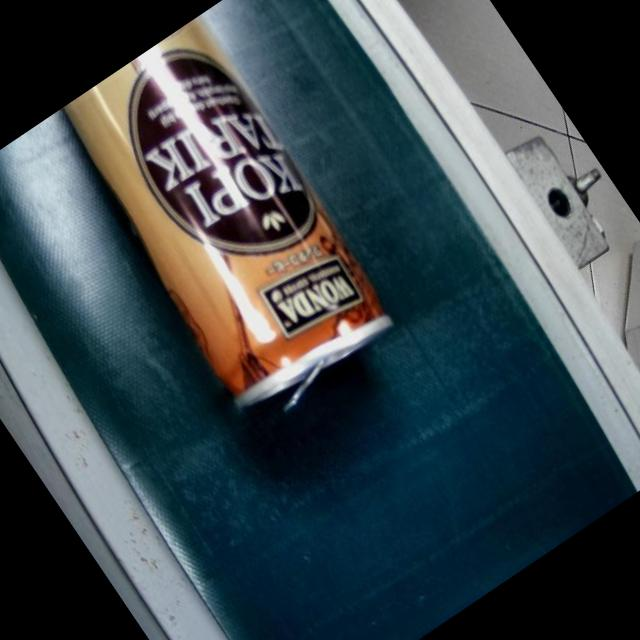Kaleng: (42, 15, 408, 430)
